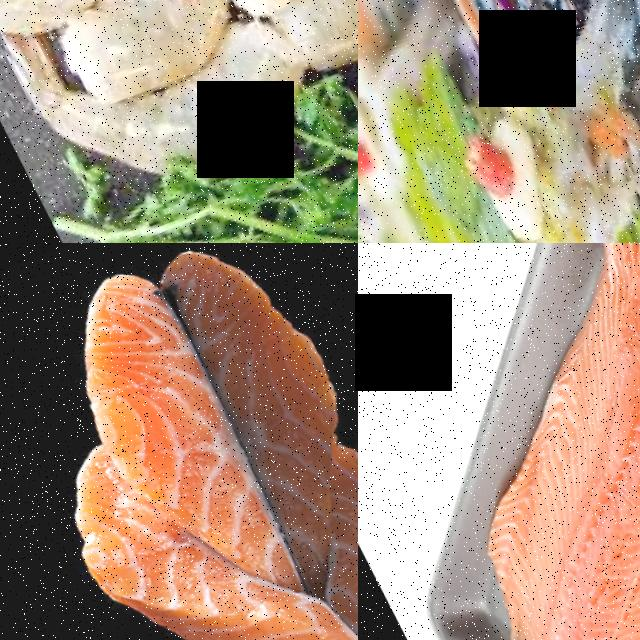salmon: (21, 254, 270, 536), (37, 454, 196, 640), (548, 470, 640, 640), (482, 586, 640, 640), (603, 337, 640, 538)
shrimp: (57, 39, 285, 202)
